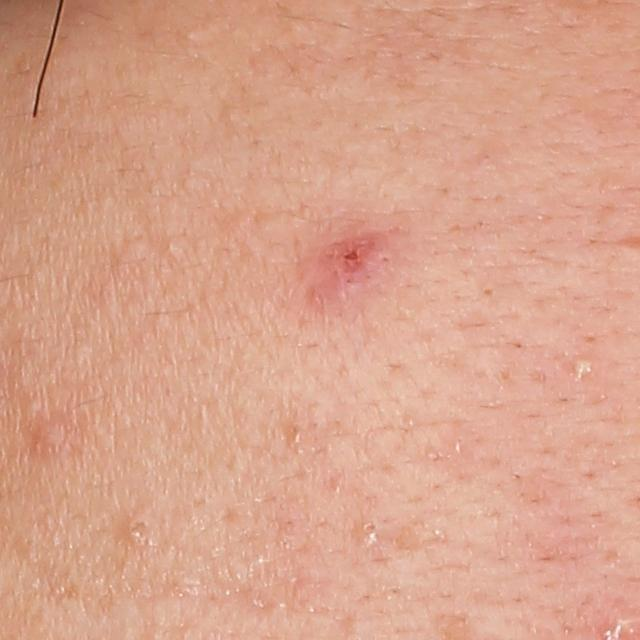comedo: (28, 421, 67, 456), (120, 516, 151, 545), (361, 519, 382, 552), (162, 237, 183, 260), (478, 283, 496, 304), (184, 27, 199, 46)
papule: (312, 224, 396, 308)
pustule: (565, 351, 596, 384)
